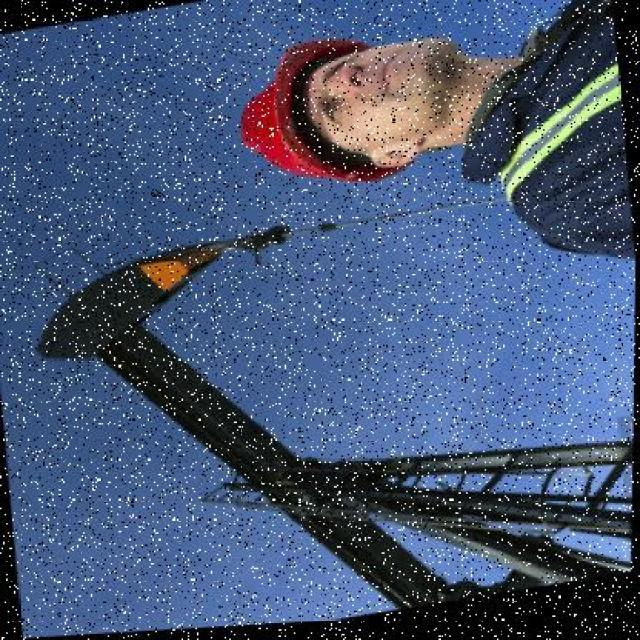helmet: (231, 30, 402, 210)
